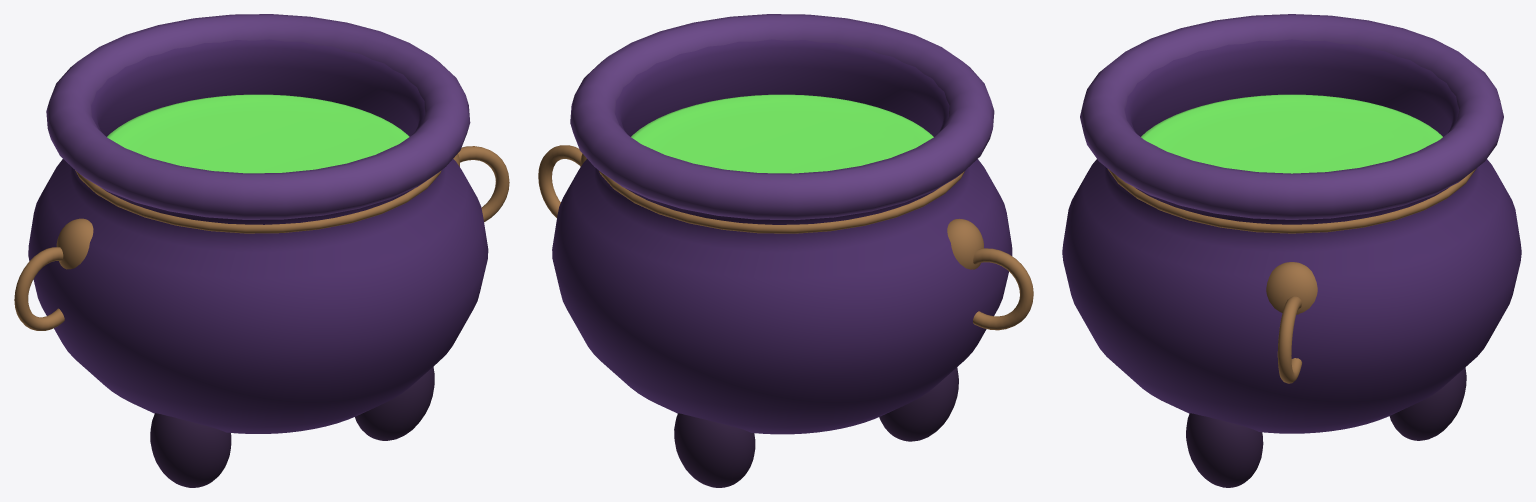
File: cauldron.glb
3 renders of one model, left to right at view 1: azimuth 30°, elevation 25°; view 2: azimuth 150°, elevation 25°; view 3: azimuth 270°, elevation 25°, orthographic.
Visible parts, largest first — view 1: CauldronBody, RolledLip, PotionSurface, Foot2, BronzeCollar, Foot1, RingHandle0, RingHandle1, HandleMount0; view 2: CauldronBody, RolledLip, PotionSurface, Foot3, BronzeCollar, Foot2, RingHandle0, HandleMount0, RingHandle1; view 3: CauldronBody, RolledLip, PotionSurface, Foot1, BronzeCollar, Foot3, HandleMount1, RingHandle1.
Boxes of the visible parts, x1,y1,x2,y2 form: CauldronBody: (28,39,488,433); RolledLip: (46,14,470,219); PotionSurface: (107,94,409,173); Foot2: (150,413,231,487); BronzeCollar: (75,170,441,233); Foot1: (355,366,434,440); RingHandle0: (14,247,64,330); RingHandle1: (458,146,509,222); HandleMount0: (56,218,93,269); CauldronBody: (552,39,1012,434); RolledLip: (570,14,994,220); PotionSurface: (631,94,933,173); Foot3: (674,413,755,487); BronzeCollar: (599,170,965,233); Foot2: (879,367,958,441); RingHandle0: (973,248,1033,330); HandleMount0: (947,218,983,269); RingHandle1: (538,145,582,217); CauldronBody: (1062,39,1521,433); RolledLip: (1080,14,1503,219); PotionSurface: (1141,94,1442,173); Foot1: (1186,413,1263,487); BronzeCollar: (1107,168,1476,233); Foot3: (1389,367,1466,440); HandleMount1: (1266,262,1317,314); RingHandle1: (1277,296,1302,383).
Bounding box in the file's own units: 2.15 × 1.43 × 1.74.
